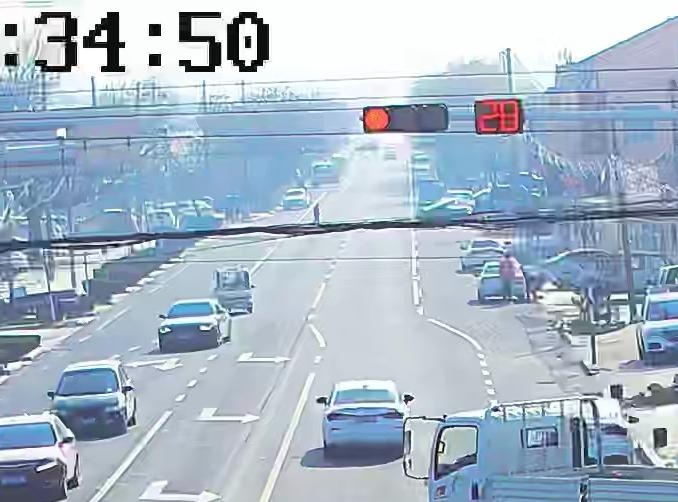red: (363, 106, 391, 131)
redtime: (477, 101, 523, 134)
